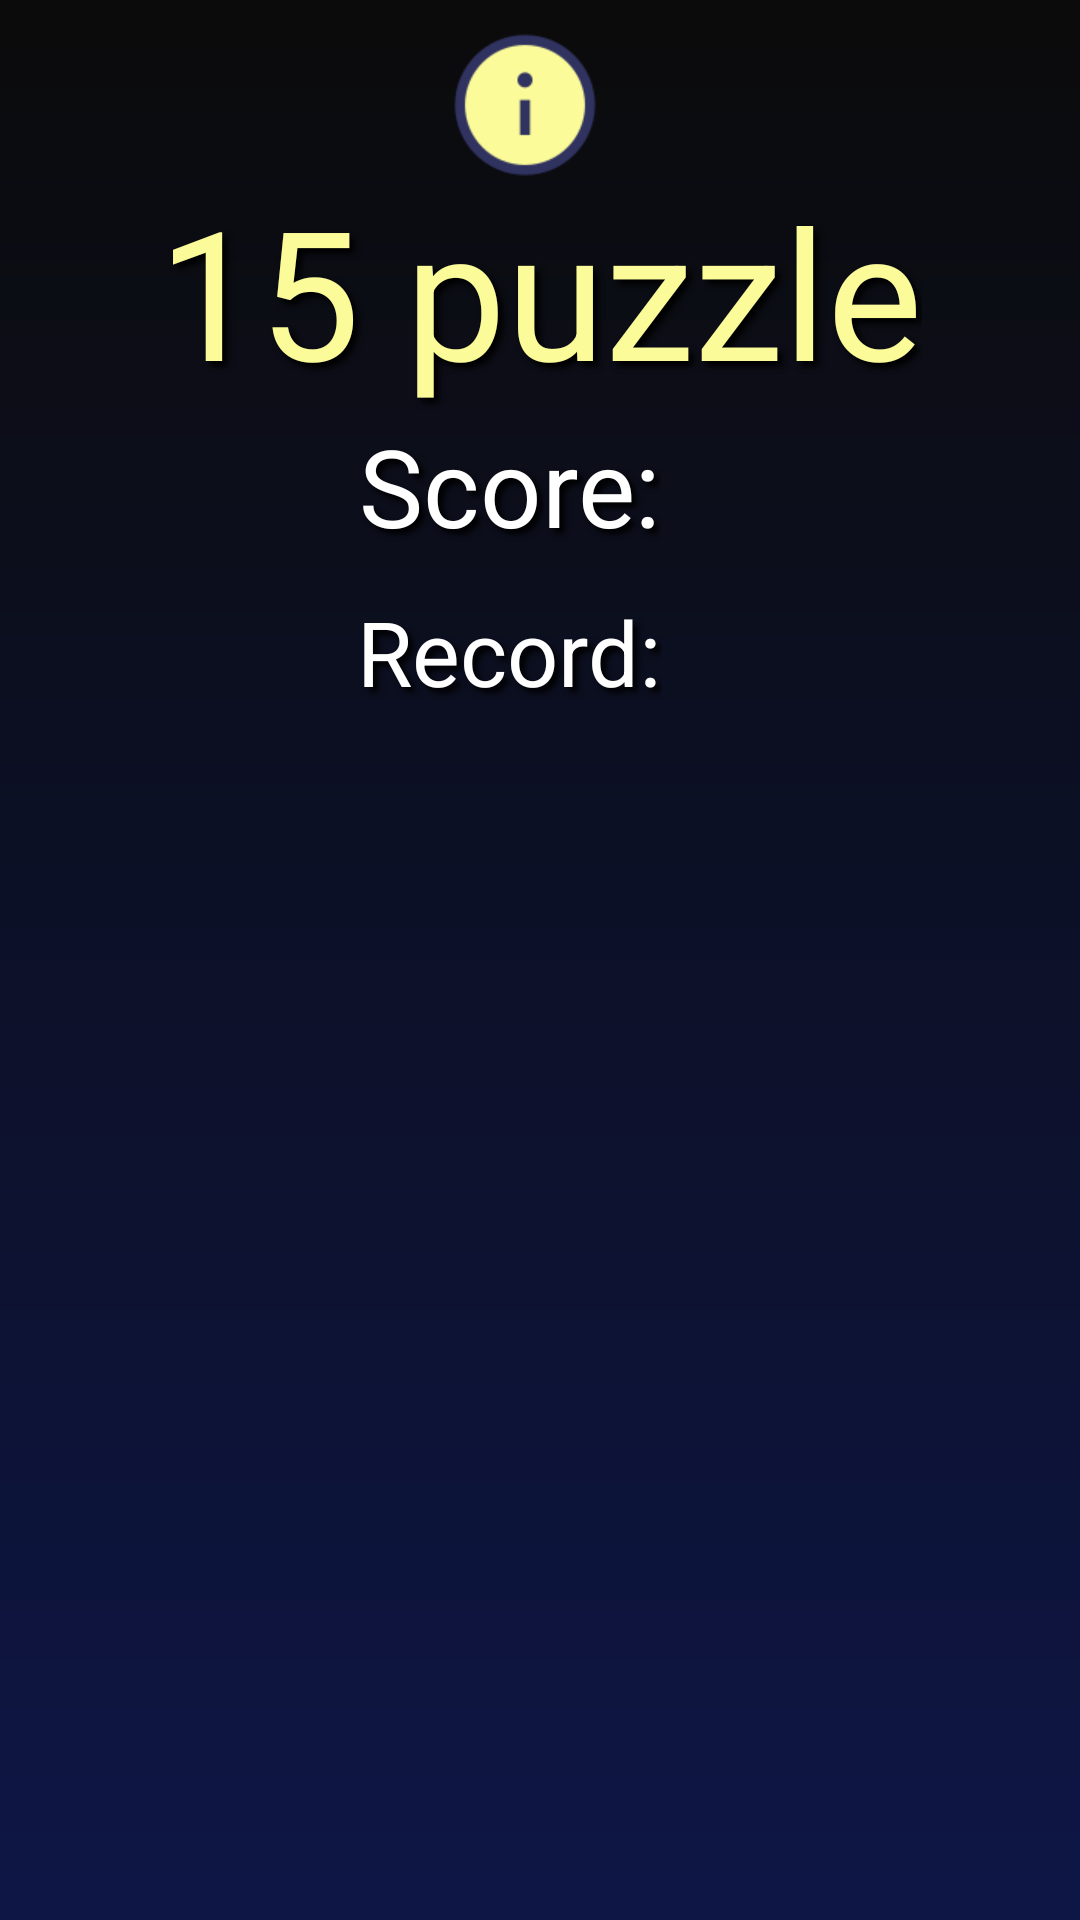

Where icons sit on this 1080 x 1920 app screen, as (x1, y1, x2, y2):
about: (454, 34, 596, 176)
